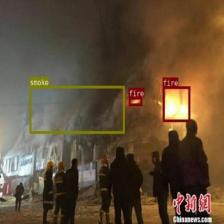fire: (162, 86, 190, 121), (128, 96, 142, 106)
smoke: (29, 85, 124, 133)
